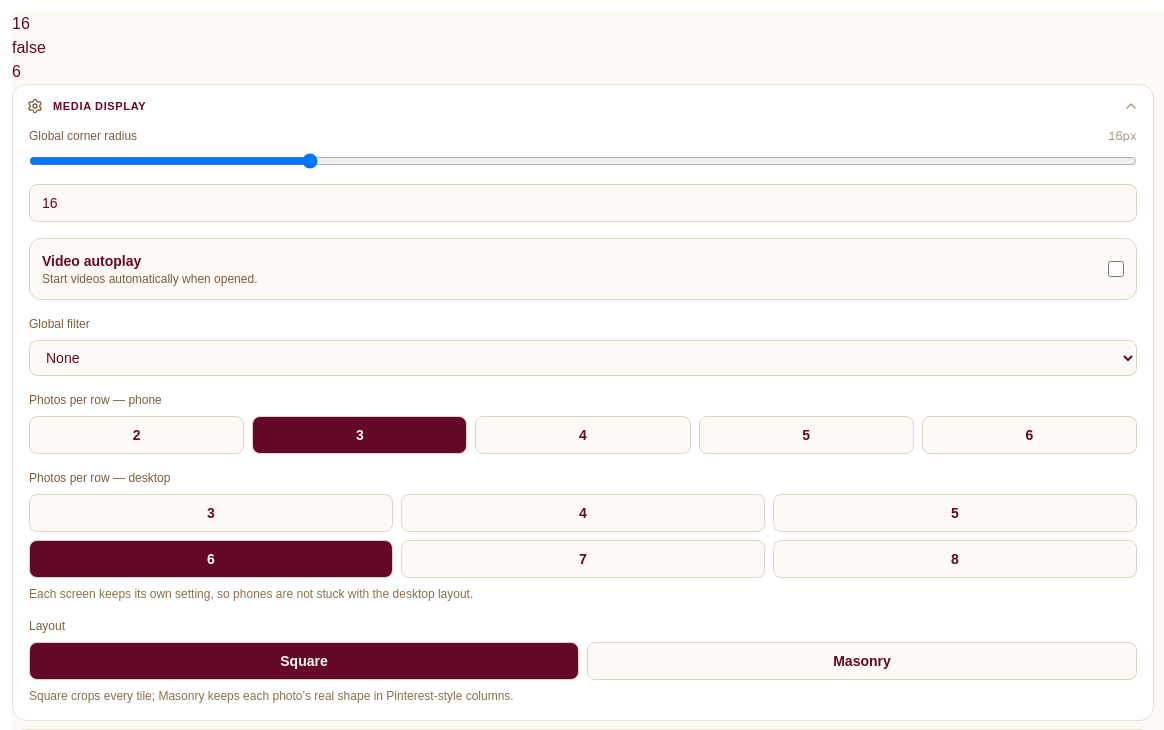
Test case: one request at a time -- the two sequences a review broke the first version with › slider 16 -> 40 -> 16 inside one round trip: the settle waits for the drag, then 16 is sent once with the reset
Set the slider to "40" at (720, 160), box 29,152 -> 1137,168
Wait 500 ms
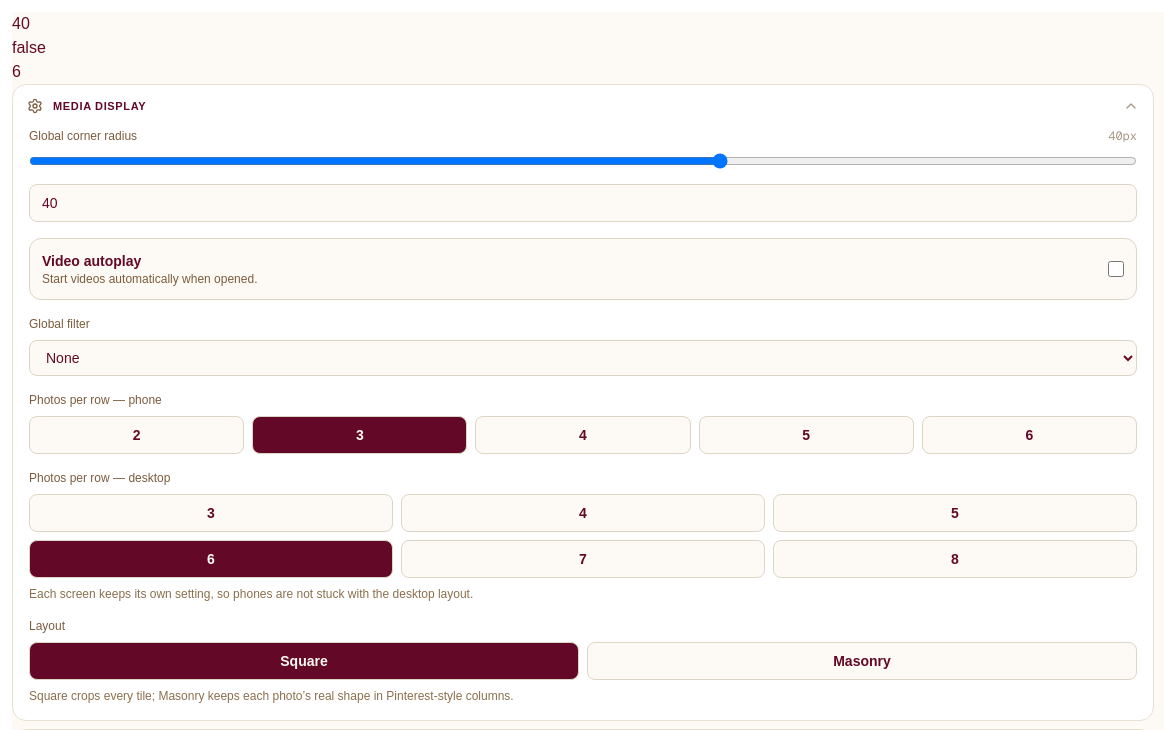
Set the slider to "16" at (310, 160), box 29,152 -> 1137,168
Wait 1500 ms
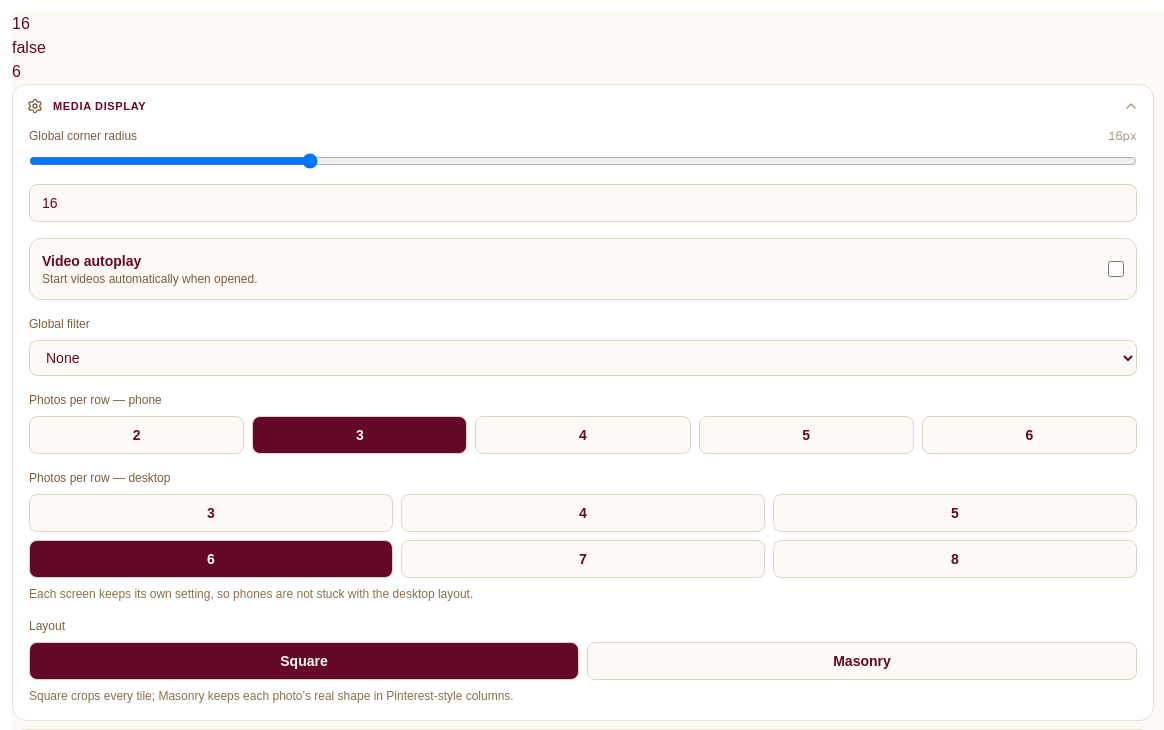
Check: the text with test id "album-radius" reads "16", box 12,15 -> 30,32
